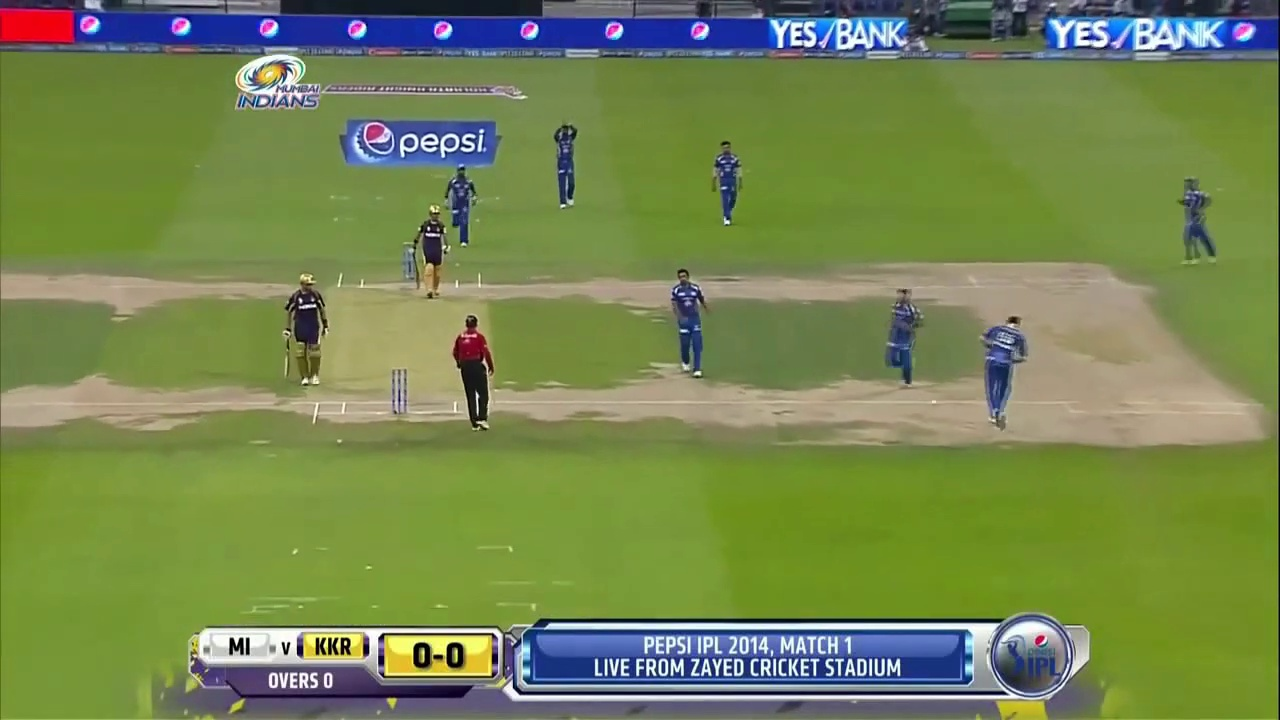bat: (412, 260, 422, 291), (285, 343, 291, 378)
stumps: (391, 369, 407, 417)
